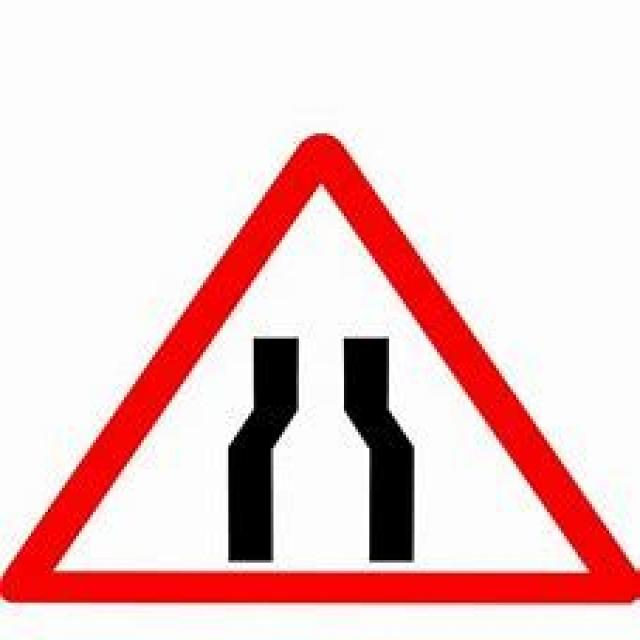NARROW_ROAD_AHEAD: (0, 133, 637, 598)
